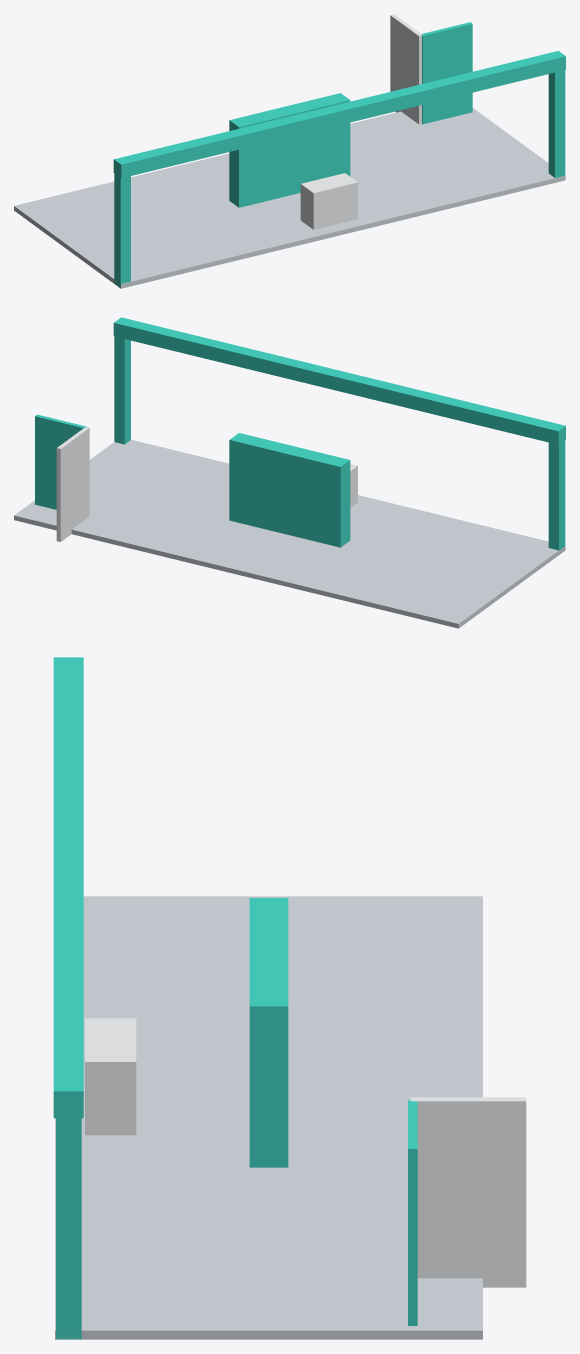
3 renders of one model, top to bottom at view 1: azimuth 30°, elevation 25°; view 2: azimuth 150°, elevation 25°; view 3: azimuth 270°, elevation 25°, orthographic. The views are drawn at different scales.
Visible parts, largest first — view 1: Exhibition Booth Concept; view 2: Exhibition Booth Concept; view 3: Exhibition Booth Concept.
Boxes of the visible parts, <box> form: Exhibition Booth Concept: <box>14,14,565,288</box>; Exhibition Booth Concept: <box>14,317,565,628</box>; Exhibition Booth Concept: <box>53,657,526,1339</box>.
Bounding box in the file's own units: 12 × 3.2 × 5.52.
